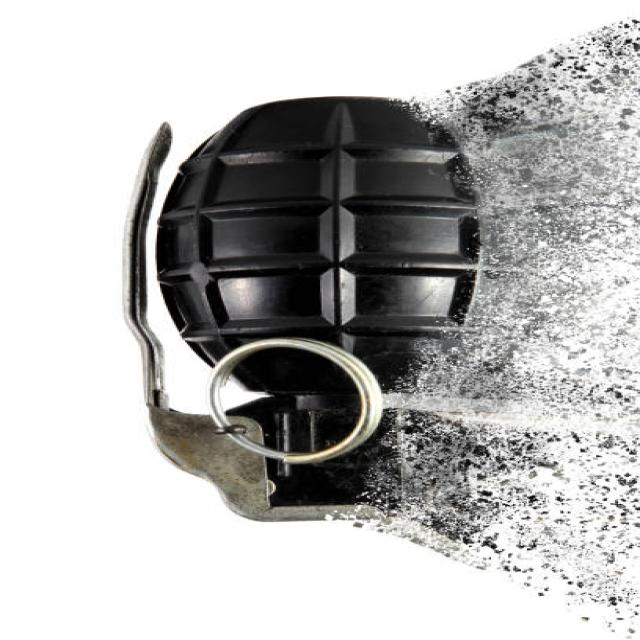grenade: (98, 92, 509, 533)
